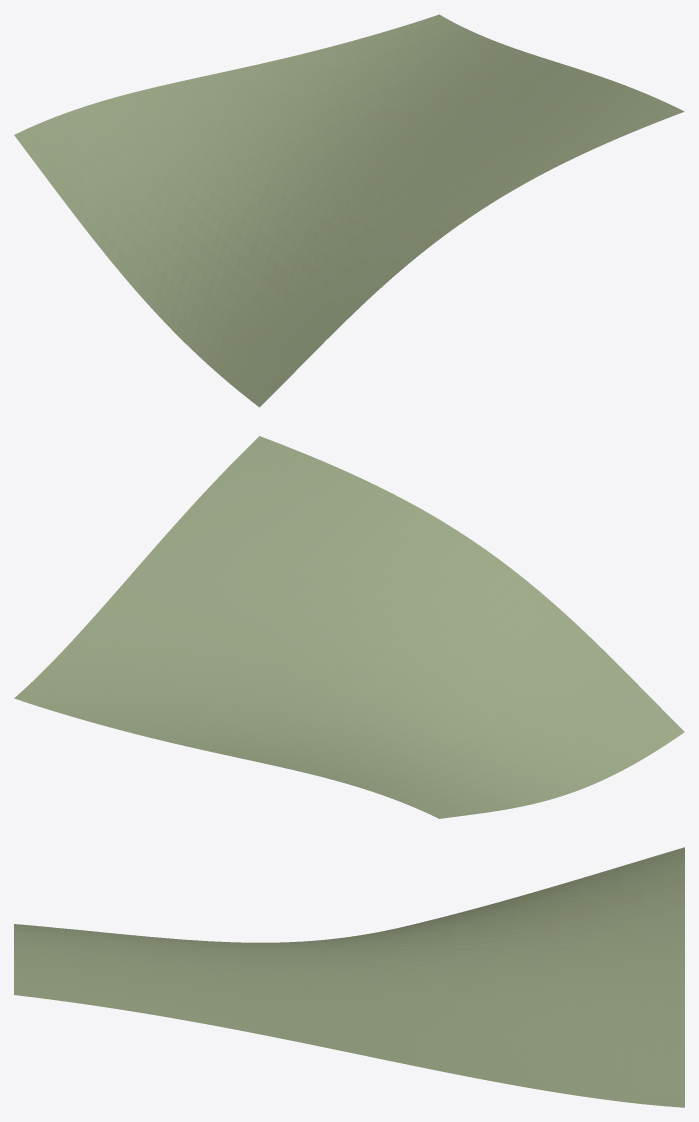
File: expanse-12-20.glb
3 views of the same model, one above another, from view 1: azimuth 30°, elevation 25°; view 2: azimuth 150°, elevation 25°; view 3: azimuth 270°, elevation 25° (orthographic). The views are drawn at different scales.
Visible parts, largest first — view 1: expanse-12-20; view 2: expanse-12-20; view 3: expanse-12-20.
Boxes of the visible parts, <box> form: expanse-12-20: <box>14,14,684,407</box>; expanse-12-20: <box>14,436,684,818</box>; expanse-12-20: <box>14,847,684,1107</box>.
Bounding box in the file's own units: 256 × 111 × 256.
